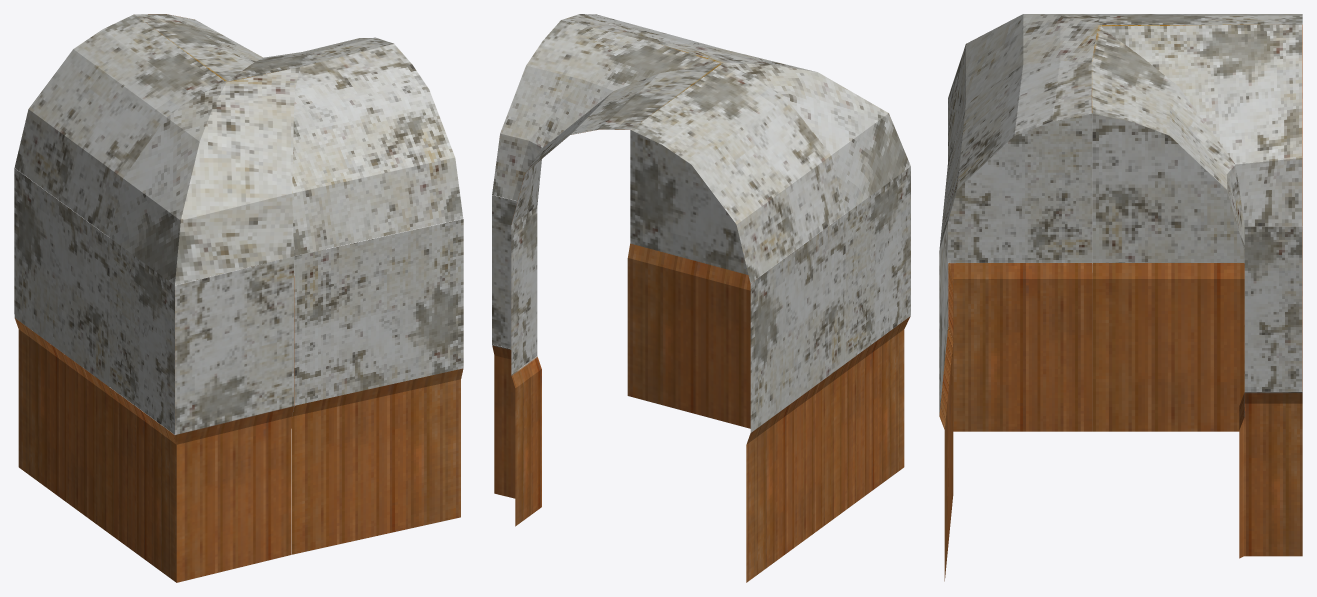
The model's file is cornerHallwayPiece.fbx.
The picture shows the model from 3 angles, left to right: view 1: azimuth 30°, elevation 25°; view 2: azimuth 150°, elevation 25°; view 3: azimuth 270°, elevation 25°; orthographic projection. The views are drawn at different scales.
Visible parts, largest first — view 1: CornerWayPiece; view 2: CornerWayPiece; view 3: CornerWayPiece.
Part boxes in pixels (bbox=[...]): CornerWayPiece: bbox=[14, 14, 463, 582]; CornerWayPiece: bbox=[492, 14, 910, 582]; CornerWayPiece: bbox=[939, 14, 1302, 581].
Size of the model in its own units: 173 by 246 by 173.
